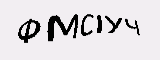І: (94, 10, 105, 40)
М: (43, 12, 80, 43)
С: (79, 11, 96, 38)
У: (104, 13, 123, 38)
Ф: (17, 16, 42, 46)
Ч: (124, 15, 142, 39)
